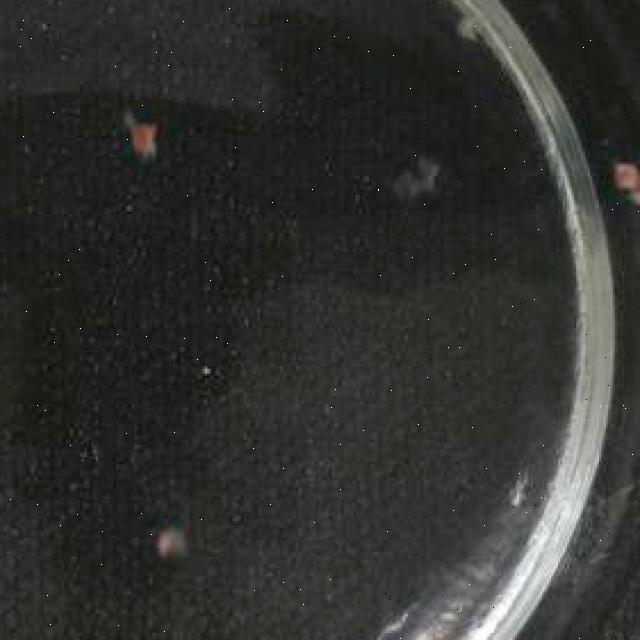Microplastic: (374, 143, 444, 207), (109, 105, 164, 164), (603, 152, 640, 218), (148, 524, 194, 562)
